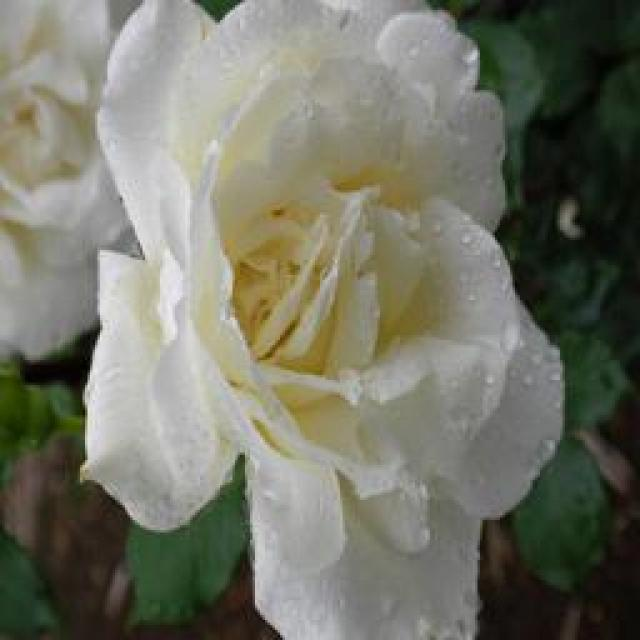rose: (75, 4, 593, 640)
